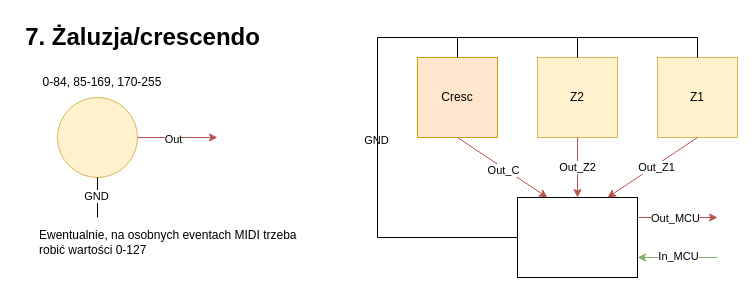
The diagram is 755 pixels wide and 295 high, and some of its shapes have lost their labels. The shapes that lost their labels are listed below. From the top down, each one's centre as x and y in pixels, then its label:
pixel 97 137: Potencjometr 0-255
pixel 577 237: MCU (16)
